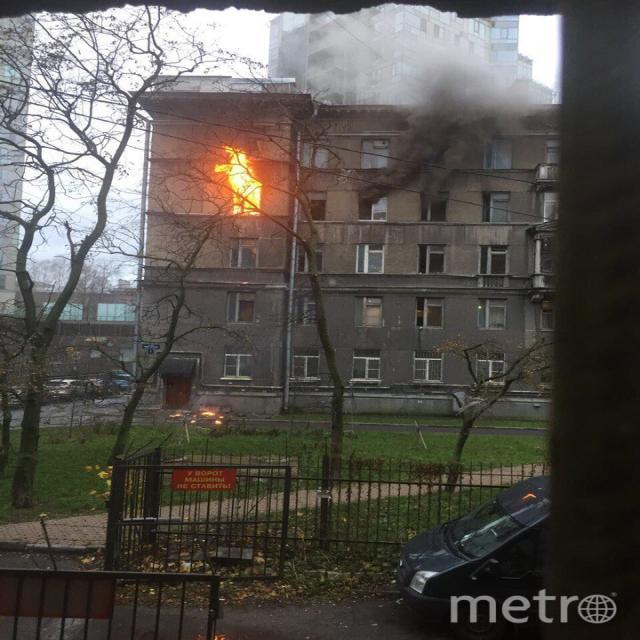Fire: (214, 145, 262, 217), (183, 406, 229, 424)
Smoke: (294, 11, 561, 200)
